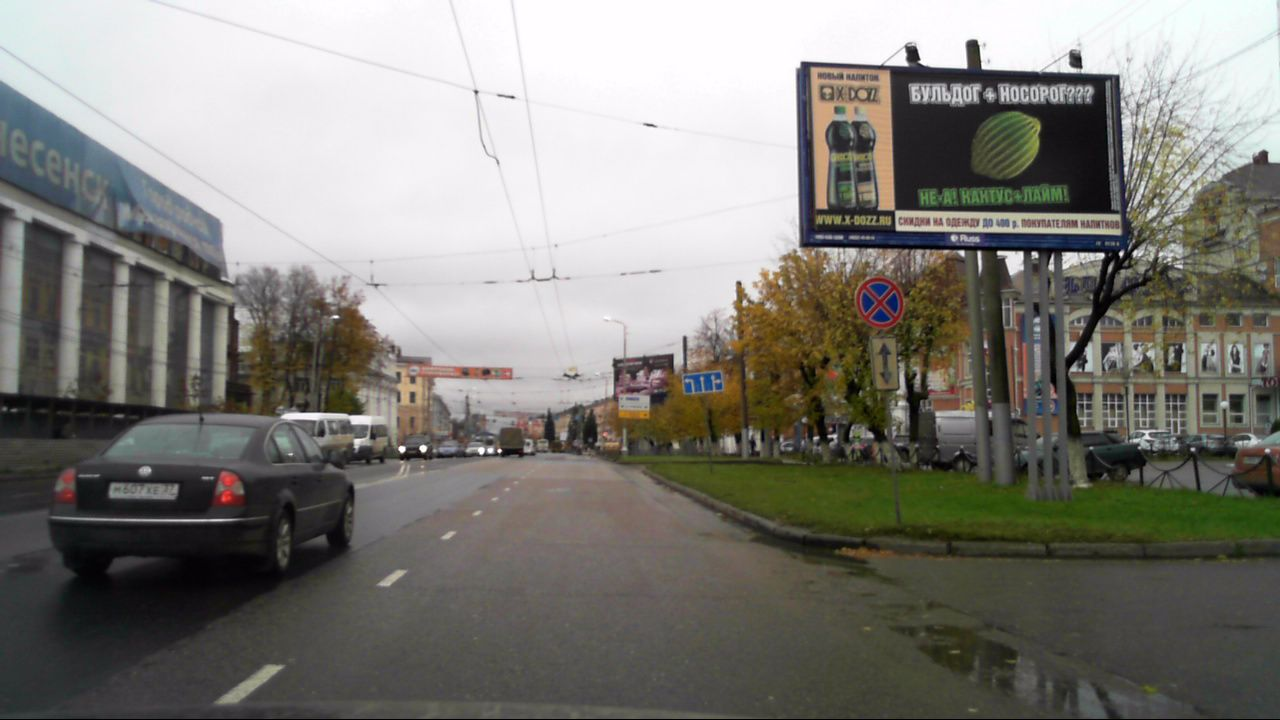No Parking: (854, 276, 904, 328)
